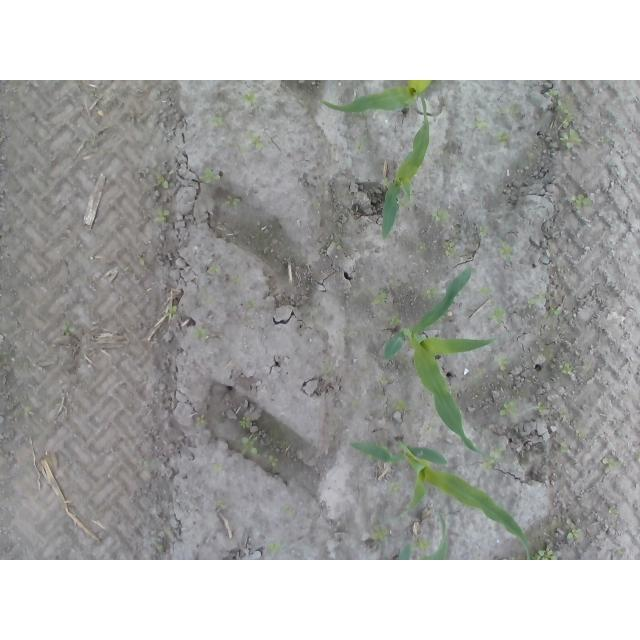Maize: (381, 267, 500, 462), (347, 440, 532, 560), (383, 81, 432, 239), (319, 80, 434, 112), (378, 509, 450, 560)
Weeds: (546, 89, 571, 126), (481, 449, 508, 469), (235, 134, 261, 150), (572, 192, 592, 212), (559, 130, 582, 147), (600, 456, 623, 473), (150, 170, 169, 190), (240, 438, 259, 458), (529, 548, 560, 560), (497, 243, 516, 262), (527, 290, 548, 307), (200, 167, 221, 183), (432, 207, 449, 226), (500, 400, 520, 416), (370, 526, 386, 544), (443, 241, 458, 260), (193, 326, 212, 340), (224, 192, 240, 208), (162, 306, 178, 322), (370, 292, 386, 308), (495, 356, 510, 373), (487, 307, 505, 321), (152, 209, 169, 223), (427, 285, 442, 300), (62, 320, 78, 334), (266, 541, 282, 555), (242, 91, 257, 105), (568, 526, 583, 540), (497, 105, 517, 115), (391, 401, 409, 412), (534, 402, 548, 416), (353, 138, 367, 152), (389, 480, 403, 494), (474, 117, 489, 130), (561, 364, 576, 377), (211, 117, 223, 131), (237, 417, 251, 429), (389, 316, 403, 328), (225, 272, 239, 284), (22, 407, 34, 420), (501, 131, 512, 145), (212, 461, 224, 473), (478, 223, 488, 237), (477, 285, 491, 295), (551, 305, 562, 317), (322, 365, 335, 375), (243, 301, 253, 312), (561, 443, 571, 454), (282, 507, 294, 516), (208, 266, 220, 275), (417, 241, 427, 251), (135, 458, 149, 465), (381, 377, 390, 387), (216, 500, 225, 509), (335, 243, 344, 252), (314, 201, 322, 211)
